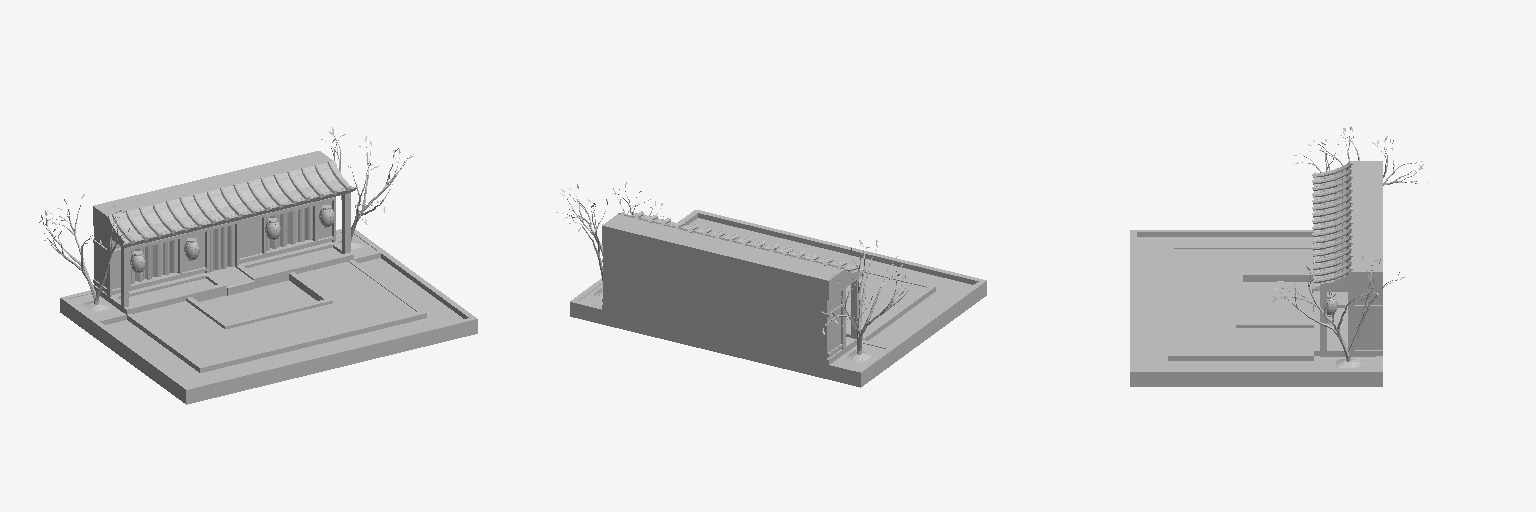
File: bath.obj
3 renders of one model, left to right at view 1: azimuth 30°, elevation 25°; view 2: azimuth 150°, elevation 25°; view 3: azimuth 270°, elevation 25°, orthographic.
Parts seen in each view (by area): view 1: Plane, Plane.053_Plane.059, Plane.052_Plane.058, Plane.035_Plane.036, Plane.064_Plane.070, NurbsPath, Plane.025, Plane.009, Plane.049_Plane.055, Plane.006, Plane.036_Plane.050, Plane.034_Plane.035 (+18 smaller); view 2: Plane.025, Plane.052_Plane.058, Plane.033_Plane.034, Plane.053_Plane.059, Plane.064_Plane.070, Plane, Plane.049_Plane.055, Plane.015, NurbsPath, tree.001, Plane.045_Plane.051, Plane.048_Plane.054 (+4 smaller); view 3: Plane, Plane.053_Plane.059, Plane.064_Plane.070, Plane.052_Plane.058, NurbsPath, Plane.009, Plane.035_Plane.036, Plane.025, Plane.047_Plane.053, Plane.049_Plane.055, tree.002, Plane.033_Plane.034 (+6 smaller).
Part boxes in pixels (x1,y1,x2,y2): Plane: (134,262,416,364); Plane.053_Plane.059: (106,258,462,385); Plane.052_Plane.058: (60,301,477,404); Plane.035_Plane.036: (116,163,346,242); Plane.064_Plane.070: (94,151,332,216); NurbsPath: (112,161,350,243); Plane.025: (94,201,331,294); Plane.009: (199,280,316,322); Plane.049_Plane.055: (183,317,477,392); Plane.006: (197,311,426,370); Plane.036_Plane.050: (131,239,177,283); Plane.034_Plane.035: (266,206,312,250); Plane.025: (603,246,840,358); Plane.052_Plane.058: (570,284,986,387); Plane.033_Plane.034: (602,226,865,300); Plane.053_Plane.059: (688,218,972,345); Plane.064_Plane.070: (602,214,843,280); Plane: (846,273,925,333); Plane.049_Plane.055: (693,210,986,284); Plane.015: (602,308,862,367); NurbsPath: (621,211,858,271); tree.001: (824,246,908,354); Plane.045_Plane.051: (686,216,975,340); Plane.048_Plane.054: (890,282,983,349); Plane: (1174,249,1313,352); Plane.053_Plane.059: (1137,237,1313,368); Plane.064_Plane.070: (1352,161,1382,271); Plane.052_Plane.058: (1130,375,1382,386); NurbsPath: (1312,161,1352,282); Plane.009: (1243,282,1313,321); Plane.035_Plane.036: (1314,164,1351,278); Plane.025: (1355,292,1382,349); Plane.047_Plane.053: (1137,369,1313,374); Plane.049_Plane.055: (1130,230,1136,374); tree.002: (1275,265,1397,361); Plane.033_Plane.034: (1315,272,1382,291).
Bounding box in the file's own units: 27.11 × 8.33 × 19.21.